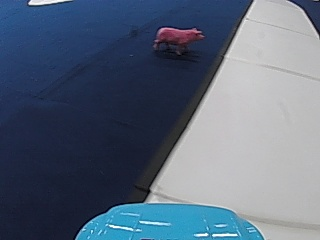pig: (151, 21, 203, 55)
